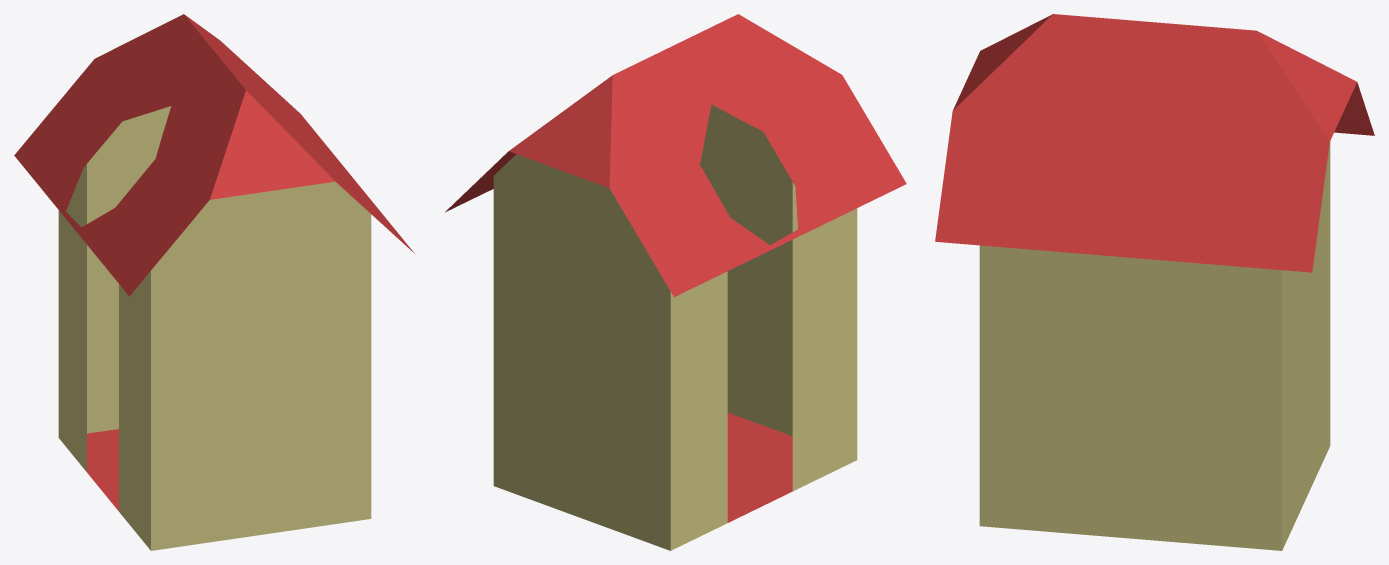
3 views of the same model, side by side, from view 1: azimuth 30°, elevation 25°; view 2: azimuth 150°, elevation 25°; view 3: azimuth 270°, elevation 25° (orthographic). The views are drawn at different scales.
Visible parts, largest first — view 1: group_5, group_3, group_6, group_4; view 2: group_5, group_3, group_6, group_4; view 3: group_5, group_3, group_4.
Part boxes in pixels (x1,y1,x2,y2): group_5: (58,106,371,550); group_3: (14,14,415,296); group_6: (87,429,118,511); group_4: (17,134,148,288); group_5: (493,104,857,550); group_3: (445,14,906,296); group_6: (727,412,792,522); group_4: (445,151,889,296); group_5: (979,141,1330,550); group_3: (935,14,1374,272); group_4: (1338,82,1374,135).
Bounding box in the file's own units: 15.65 × 17.36 × 20.19.
